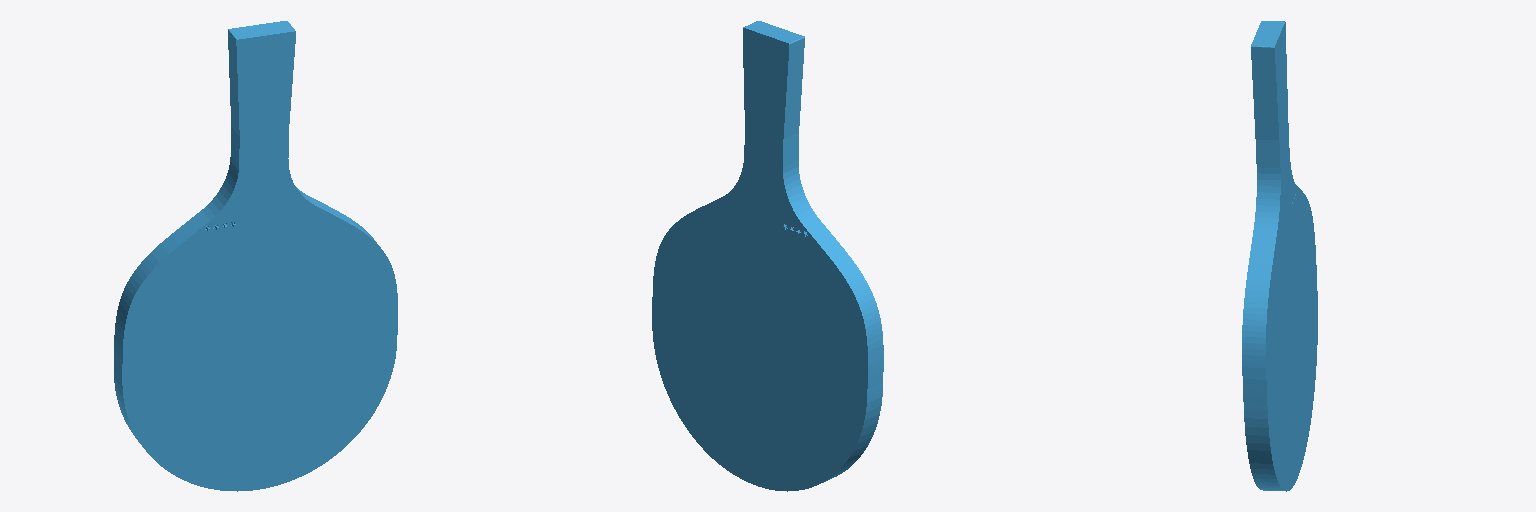
robot.urdf — panda:
<?xml version="1.0" ?>
<!-- =================================================================================== -->
<!-- |    This document was autogenerated by xacro from panda_arm_hand.urdf.xacro      | -->
<!-- |    EDITING THIS FILE BY HAND IS NOT RECOMMENDED                                 | -->
<!-- =================================================================================== -->
<robot name="panda" xmlns:xacro="http://www.ros.org/wiki/xacro">
    <link name="panda_link0">
        <inertial>
            <origin rpy="0 0 0" xyz="0 0 0.05" />
            <mass value="2.9" />
            <inertia ixx="0.1" ixy="0" ixz="0" iyy="0.1" iyz="0" izz="0.1" />
        </inertial>
        <visual>
            <geometry>
                <mesh filename="package://panda_racquet/meshes/collision/link0.obj" />
            </geometry>
            <material name="panda_white">
                <color rgba="1. 1. 1. 1." />
            </material>
        </visual>
        <collision>
            <geometry>
                <mesh filename="package://panda_racquet/meshes/collision/link0.obj" />
            </geometry>
            <material name="panda_white" />
        </collision>
    </link>
    <link name="panda_link1">
        <inertial>
            <origin rpy="0 0 0" xyz="0 -0.04 -0.05" />
            <mass value="2.7" />
            <inertia ixx="0.1" ixy="0" ixz="0" iyy="0.1" iyz="0" izz="0.1" />
        </inertial>
        <visual>
            <geometry>
                <mesh filename="package://panda_racquet/meshes/visual/link1.obj" />
            </geometry>
            <material name="panda_white" />
        </visual>
        <collision>
            <geometry>
                <mesh filename="package://panda_racquet/meshes/collision/link1.obj" />
            </geometry>
            <material name="panda_white" />
        </collision>
    </link>
    <joint name="panda_joint1" type="revolute">
        <safety_controller k_position="100.0" k_velocity="40.0" soft_lower_limit="-2.8973" soft_upper_limit="2.8973" />
        <origin rpy="0 0 0" xyz="0 0 0.333" />
        <parent link="panda_link0" />
        <child link="panda_link1" />
        <axis xyz="0 0 1" />
        <limit effort="87" lower="-2.9671" upper="2.9671" velocity="2.1750" />
    </joint>
    <link name="panda_link2">
        <inertial>
            <origin rpy="0 0 0" xyz="0 -0.04 0.06" />
            <mass value="2.73" />
            <inertia ixx="0.1" ixy="0" ixz="0" iyy="0.1" iyz="0" izz="0.1" />
        </inertial>
        <visual>
            <geometry>
                <mesh filename="package://panda_racquet/meshes/visual/link2.obj" />
            </geometry>
            <material name="panda_white" />
        </visual>
        <collision>
            <geometry>
                <mesh filename="package://panda_racquet/meshes/collision/link2.obj" />
            </geometry>
            <material name="panda_white" />
        </collision>
    </link>
    <joint name="panda_joint2" type="revolute">
        <safety_controller k_position="100.0" k_velocity="40.0" soft_lower_limit="-1.7628" soft_upper_limit="1.7628" />
        <origin rpy="-1.57079632679 0 0" xyz="0 0 0" />
        <parent link="panda_link1" />
        <child link="panda_link2" />
        <axis xyz="0 0 1" />
        <limit effort="87" lower="-1.8326" upper="1.8326" velocity="2.1750" />
    </joint>
    <link name="panda_link3">
        <inertial>
            <origin rpy="0 0 0" xyz="0.01 0.01 -0.05" />
            <mass value="2.04" />
            <inertia ixx="0.1" ixy="0" ixz="0" iyy="0.1" iyz="0" izz="0.1" />
        </inertial>
        <visual>
            <geometry>
                <mesh filename="package://panda_racquet/meshes/visual/link3.obj" />
            </geometry>
            <material name="panda_red">
                <color rgba="1. 1. 1. 1." />
            </material>
        </visual>
        <collision>
            <geometry>
                <mesh filename="package://panda_racquet/meshes/collision/link3.obj" />
            </geometry>
        </collision>
    </link>
    <joint name="panda_joint3" type="revolute">
        <safety_controller k_position="100.0" k_velocity="40.0" soft_lower_limit="-2.8973" soft_upper_limit="2.8973" />
        <origin rpy="1.57079632679 0 0" xyz="0 -0.316 0" />
        <parent link="panda_link2" />
        <child link="panda_link3" />
        <axis xyz="0 0 1" />
        <limit effort="87" lower="-2.9671" upper="2.9671" velocity="2.1750" />
    </joint>
    <link name="panda_link4">
        <inertial>
            <origin rpy="0 0 0" xyz="-0.03 0.03 0.02" />
            <mass value="2.08" />
            <inertia ixx="0.1" ixy="0" ixz="0" iyy="0.1" iyz="0" izz="0.1" />
        </inertial>
        <visual>
            <geometry>
                <mesh filename="package://panda_racquet/meshes/visual/link4.obj" />
            </geometry>
            <material name="panda_white" />
        </visual>
        <collision>
            <geometry>
                <mesh filename="package://panda_racquet/meshes/collision/link4.obj" />
            </geometry>
            <material name="panda_white" />
        </collision>
    </link>
    <joint name="panda_joint4" type="revolute">
        <safety_controller k_position="100.0" k_velocity="40.0" soft_lower_limit="-3.0718" soft_upper_limit="-0.0698" />
        <origin rpy="1.57079632679 0 0" xyz="0.0825 0 0" />
        <parent link="panda_link3" />
        <child link="panda_link4" />
        <axis xyz="0 0 1" />
        <limit effort="87" lower="-3.1416" upper="0.0" velocity="2.1750" />
    </joint>
    <link name="panda_link5">
        <inertial>
            <origin rpy="0 0 0" xyz="0 0.04 -0.12" />
            <mass value="3" />
            <inertia ixx="0.1" ixy="0" ixz="0" iyy="0.1" iyz="0" izz="0.1" />
        </inertial>
        <visual>
            <geometry>
                <mesh filename="package://panda_racquet/meshes/visual/link5.obj" />
            </geometry>
            <material name="panda_white" />
        </visual>
        <collision>
            <geometry>
                <mesh filename="package://panda_racquet/meshes/collision/link5.obj" />
            </geometry>
            <material name="panda_white" />
        </collision>
    </link>
    <joint name="panda_joint5" type="revolute">
        <safety_controller k_position="100.0" k_velocity="40.0" soft_lower_limit="-2.8973" soft_upper_limit="2.8973" />
        <origin rpy="-1.57079632679 0 0" xyz="-0.0825 0.384 0" />
        <parent link="panda_link4" />
        <child link="panda_link5" />
        <axis xyz="0 0 1" />
        <limit effort="12" lower="-2.9671" upper="2.9671" velocity="2.6100" />
    </joint>
    <link name="panda_link6">
        <inertial>
            <origin rpy="0 0 0" xyz="0.04 0 0" />
            <mass value="1.3" />
            <inertia ixx="0.1" ixy="0" ixz="0" iyy="0.1" iyz="0" izz="0.1" />
        </inertial>
        <visual>
            <geometry>
                <mesh filename="package://panda_racquet/meshes/visual/link6.obj" />
            </geometry>
            <material name="panda_white" />
        </visual>
        <collision>
            <geometry>
                <mesh filename="package://panda_racquet/meshes/collision/link6.obj" />
            </geometry>
            <material name="panda_white" />
        </collision>
    </link>
    <joint name="panda_joint6" type="revolute">
        <safety_controller k_position="100.0" k_velocity="40.0" soft_lower_limit="-0.0175" soft_upper_limit="3.7525" />
        <origin rpy="1.57079632679 0 0" xyz="0 0 0" />
        <parent link="panda_link5" />
        <child link="panda_link6" />
        <axis xyz="0 0 1" />
        <limit effort="12" lower="-0.0873" upper="3.8223" velocity="2.6100" />
    </joint>
    <link name="panda_link7">
        <inertial>
            <origin rpy="0 0 0" xyz="0 0 0.08" />
            <mass value=".2" />
            <inertia ixx="0.1" ixy="0" ixz="0" iyy="0.1" iyz="0" izz="0.1" />
        </inertial>
        <visual>
            <geometry>
                <mesh filename="package://panda_racquet/meshes/collision/link7.obj" />
            </geometry>
            <material name="panda_white" />
        </visual>
        <collision>
            <geometry>
                <mesh filename="package://panda_racquet/meshes/collision/link7.obj" />
            </geometry>
            <material name="panda_white" />
        </collision>
    </link>
    <joint name="panda_joint7" type="revolute">
        <safety_controller k_position="100.0" k_velocity="40.0" soft_lower_limit="-2.8973" soft_upper_limit="2.8973" />
        <origin rpy="1.57079632679 0 0" xyz="0.088 0 0" />
        <parent link="panda_link6" />
        <child link="panda_link7" />
        <axis xyz="0 0 1" />
        <limit effort="12" lower="-2.9671" upper="2.9671" velocity="2.6100" />
    </joint>
    <link name="panda_link8">
        <inertial>
            <origin rpy="0 0 0" xyz="0 0 0" />
            <mass value="0.0" />
            <inertia ixx="0.1" ixy="0" ixz="0" iyy="0.1" iyz="0" izz="0.1" />
        </inertial>
    </link>
    <joint name="panda_joint8" type="fixed">
        <origin rpy="0 0 0" xyz="0 0 0.107" />
        <parent link="panda_link7" />
        <child link="panda_link8" />
        <axis xyz="0 0 0" />
    </joint>
    <link name="paddle_2_v11">
        <inertial>
            <origin xyz="1.536717935846088e-05 -0.04098183364350794 -0.15141084630928492" rpy="0 0 0" />
            <mass value="0.41109102084948795" />
            <inertia ixx="0.001359406044357525" iyy="0.001729813346568243" izz="0.0005917335521479494" ixy="8.25063059278347e-05" iyz="-0.00033229452756661226" ixz="-2.269500528657986e-05" />
        </inertial>
        <visual>
            <origin xyz="0.108837 -0.718071 -0.819981" rpy="0 0 0" />
            <geometry>
                <mesh filename="package://panda_racquet/meshes/collision/paddle_2_v11.stl" scale="0.001 0.001 0.001" />
            </geometry>
            <material name="silver" />
            <material />
        </visual>
        <collision>
            <origin xyz="0.108837 -0.718071 -0.819981" rpy="0 0 0" />
            <geometry>
                <mesh filename="package://panda_racquet/meshes/collision/paddle_2_v11.stl" scale="0.001 0.001 0.001" />
            </geometry>
        </collision>
    </link>
    <joint name="panda_bat_mount" type="fixed">
        <origin xyz="0.0 0.0 0.0" rpy="3.4416 0 0" />
        <parent link="panda_link8" />
        <child link="paddle_2_v11" />
    </joint>
    <transmission name="trans_panda_joint1">
        <type>transmission_interface/SimpleTransmission</type>
        <joint name="panda_joint1">
            <hardwareInterface>hardware_interface/EffortJointInterface</hardwareInterface>
        </joint>
        <actuator name="panda_joint1_motor">
            <hardwareInterface>hardware_interface/EffortJointInterface</hardwareInterface>
            <mechanicalReduction>1</mechanicalReduction>
        </actuator>
    </transmission>
    <transmission name="trans_panda_joint2">
        <type>transmission_interface/SimpleTransmission</type>
        <joint name="panda_joint2">
            <hardwareInterface>hardware_interface/EffortJointInterface</hardwareInterface>
        </joint>
        <actuator name="panda_joint2_motor">
            <hardwareInterface>hardware_interface/EffortJointInterface</hardwareInterface>
            <mechanicalReduction>1</mechanicalReduction>
        </actuator>
    </transmission>
    <transmission name="trans_panda_joint3">
        <type>transmission_interface/SimpleTransmission</type>
        <joint name="panda_joint3">
            <hardwareInterface>hardware_interface/EffortJointInterface</hardwareInterface>
        </joint>
        <actuator name="panda_joint3_motor">
            <hardwareInterface>hardware_interface/EffortJointInterface</hardwareInterface>
            <mechanicalReduction>1</mechanicalReduction>
        </actuator>
    </transmission>
    <transmission name="trans_panda_joint4">
        <type>transmission_interface/SimpleTransmission</type>
        <joint name="panda_joint4">
            <hardwareInterface>hardware_interface/EffortJointInterface</hardwareInterface>
        </joint>
        <actuator name="panda_joint4_motor">
            <hardwareInterface>hardware_interface/EffortJointInterface</hardwareInterface>
            <mechanicalReduction>1</mechanicalReduction>
        </actuator>
    </transmission>
    <transmission name="trans_panda_joint5">
        <type>transmission_interface/SimpleTransmission</type>
        <joint name="panda_joint5">
            <hardwareInterface>hardware_interface/EffortJointInterface</hardwareInterface>
        </joint>
        <actuator name="panda_joint5_motor">
            <hardwareInterface>hardware_interface/EffortJointInterface</hardwareInterface>
            <mechanicalReduction>1</mechanicalReduction>
        </actuator>
    </transmission>
    <transmission name="trans_panda_joint6">
        <type>transmission_interface/SimpleTransmission</type>
        <joint name="panda_joint6">
            <hardwareInterface>hardware_interface/EffortJointInterface</hardwareInterface>
        </joint>
        <actuator name="panda_joint6_motor">
            <hardwareInterface>hardware_interface/EffortJointInterface</hardwareInterface>
            <mechanicalReduction>1</mechanicalReduction>
        </actuator>
    </transmission>
    <transmission name="trans_panda_joint7">
        <type>transmission_interface/SimpleTransmission</type>
        <joint name="panda_joint7">
            <hardwareInterface>hardware_interface/EffortJointInterface</hardwareInterface>
        </joint>
        <actuator name="panda_joint7_motor">
            <hardwareInterface>hardware_interface/EffortJointInterface</hardwareInterface>
            <mechanicalReduction>1</mechanicalReduction>
        </actuator>
    </transmission>
    <gazebo>
        <plugin name="gazebo_ros_control" filename="libgazebo_ros_control.so">
            <robotNamespace>/</robotNamespace>
        </plugin>
    </gazebo>
</robot>

--- What the picture shows (computed from the rendered views, not written in the file) ---
The picture shows the robot from 3 angles, left to right: view 1: azimuth 30°, elevation 25°; view 2: azimuth 150°, elevation 25°; view 3: azimuth 270°, elevation 25°; orthographic projection.
Robot: panda — 10 links, 9 joints (7 revolute, 2 fixed); root link panda_link0; default pose: every joint at zero.
Visible links, largest first — view 1: paddle_2_v11; view 2: paddle_2_v11; view 3: paddle_2_v11.
Boxes of the visible links, x1,y1,x2,y2 form: paddle_2_v11: [114, 21, 397, 491]; paddle_2_v11: [652, 21, 883, 491]; paddle_2_v11: [1242, 21, 1317, 491].
Bounding box of the posed robot: 0.1452 × 0.0391 × 0.2529 m (x, y, z).
Meshes: 9 distinct files referenced, 1 mesh visuals loaded (1 binary STL); not drawn: 8 (reference not matched to a file when rendering).